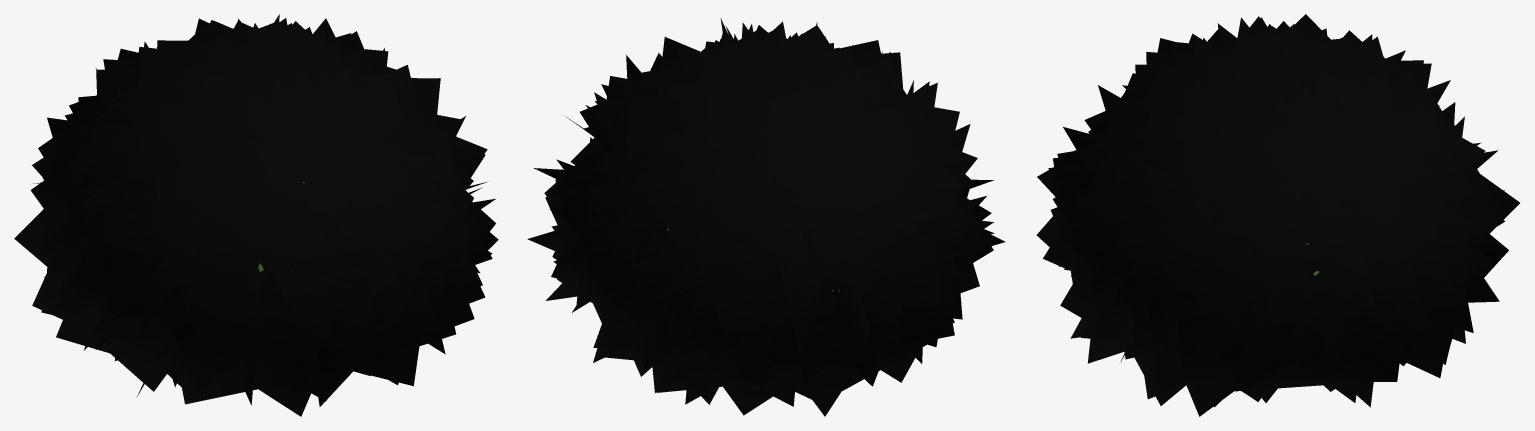
File: Bush_280.001.fbx
3 renders of one model, left to right at view 1: azimuth 30°, elevation 25°; view 2: azimuth 150°, elevation 25°; view 3: azimuth 270°, elevation 25°, orthographic. The views are drawn at different scales.
Visible parts, largest first — view 1: Bush_280; view 2: Bush_280; view 3: Bush_280.
Boxes of the visible parts, x1=… form: Bush_280: x1=14, y1=14, x2=498, y2=416; Bush_280: x1=527, y1=18, x2=1005, y2=416; Bush_280: x1=1036, y1=14, x2=1519, y2=416.
Size of the model in its own units: 254 by 194 by 259.
